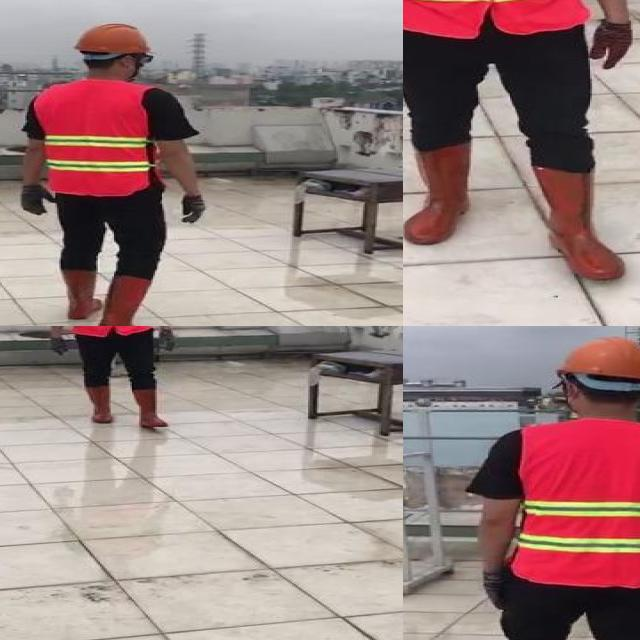boots: (532, 164, 628, 279), (403, 143, 474, 246), (96, 274, 151, 326), (59, 268, 101, 323), (130, 388, 166, 429), (80, 385, 114, 424)
hand_glove: (588, 21, 634, 69), (16, 184, 54, 215), (483, 570, 513, 609), (180, 194, 208, 224), (157, 328, 176, 351), (50, 336, 68, 356)
head_helmet: (556, 330, 640, 384), (75, 19, 151, 56)
person: (403, 0, 640, 286), (19, 21, 218, 326), (459, 328, 640, 640), (43, 326, 187, 430)
vest: (520, 420, 640, 584), (32, 78, 160, 196)
